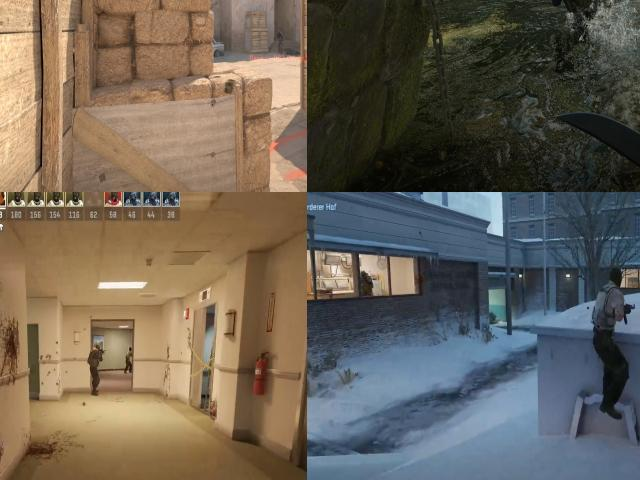CT: (553, 0, 594, 59), (88, 340, 104, 387), (359, 270, 373, 293), (278, 31, 283, 52)
CT-Head: (91, 341, 102, 355), (362, 270, 368, 282), (279, 32, 280, 35)
Dead: (284, 48, 299, 55)
T: (592, 280, 629, 341), (122, 341, 134, 376)
T-Head: (605, 265, 629, 289), (125, 343, 134, 354)
